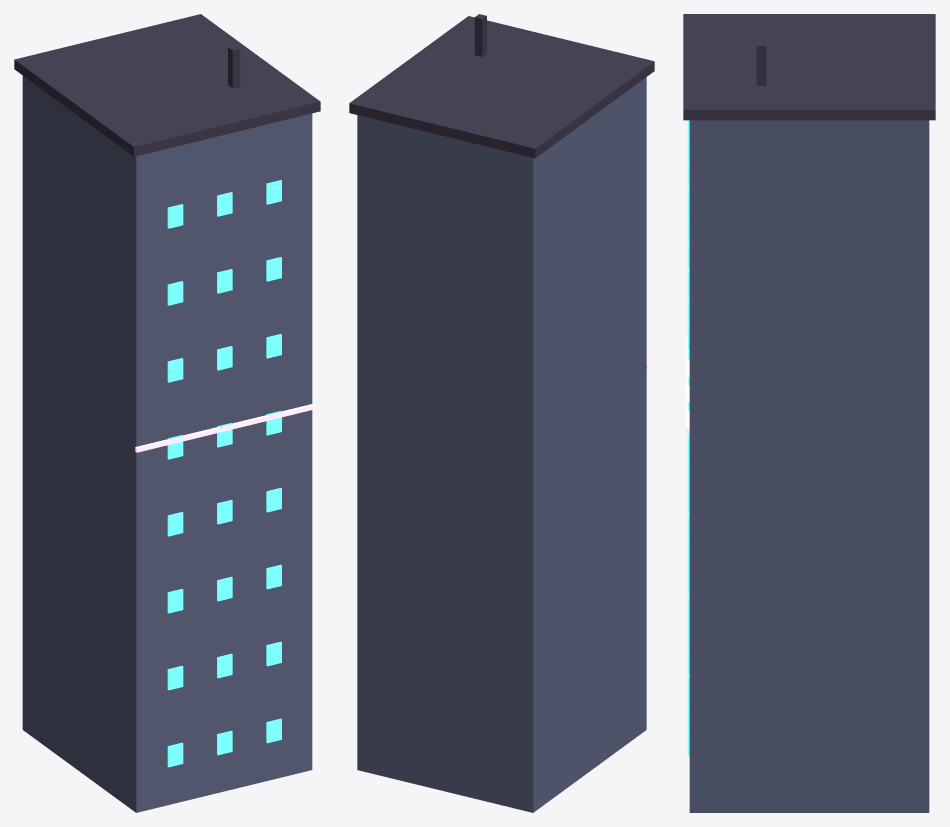
File: building_b.glb
3 renders of one model, left to right at view 1: azimuth 30°, elevation 25°; view 2: azimuth 150°, elevation 25°; view 3: azimuth 270°, elevation 25°, orthographic. The views are drawn at different scales.
Parts seen in each view (by area): view 1: building_b; view 2: building_b; view 3: building_b.
Boxes of the visible parts, x1,y1,x2,y2 form: building_b: [14, 14, 320, 812]; building_b: [349, 14, 654, 812]; building_b: [683, 14, 935, 812].
Size of the model in its own units: 3.6 by 13.05 by 4.
